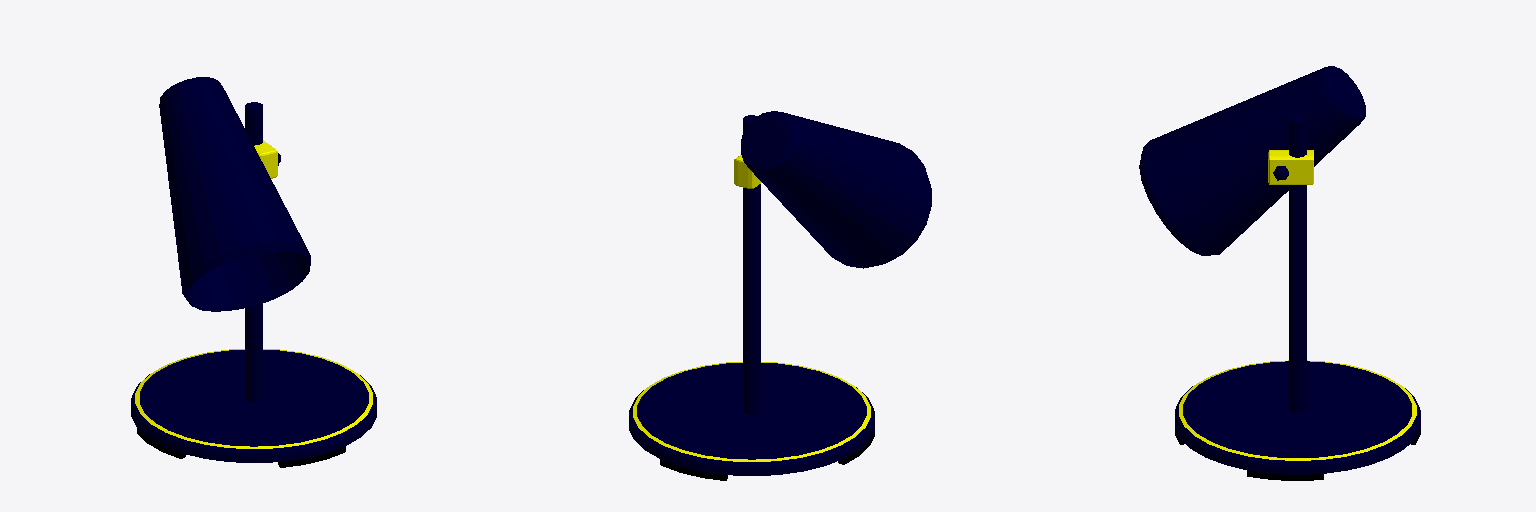
The model's file is LampforTexture.obj.
3 views of the same model, side by side, from view 1: azimuth 30°, elevation 25°; view 2: azimuth 150°, elevation 25°; view 3: azimuth 270°, elevation 25° (orthographic).
Parts seen in each view (by area): view 1: pCylinder1, pCylinder2; view 2: pCylinder1, pCylinder2, pCube1; view 3: pCylinder1, pCylinder2, pCube1.
Part boxes in pixels (x1,y1,x2,y2): pCylinder1: (131,102,376,467); pCylinder2: (159,77,310,311); pCylinder1: (629,115,874,480); pCylinder2: (741,111,931,268); pCube1: (734,155,761,188); pCylinder1: (1175,114,1420,480); pCylinder2: (1139,66,1365,255); pCube1: (1268,150,1313,184).
Bounding box in the file's own units: 8.09 × 11.46 × 8.63.